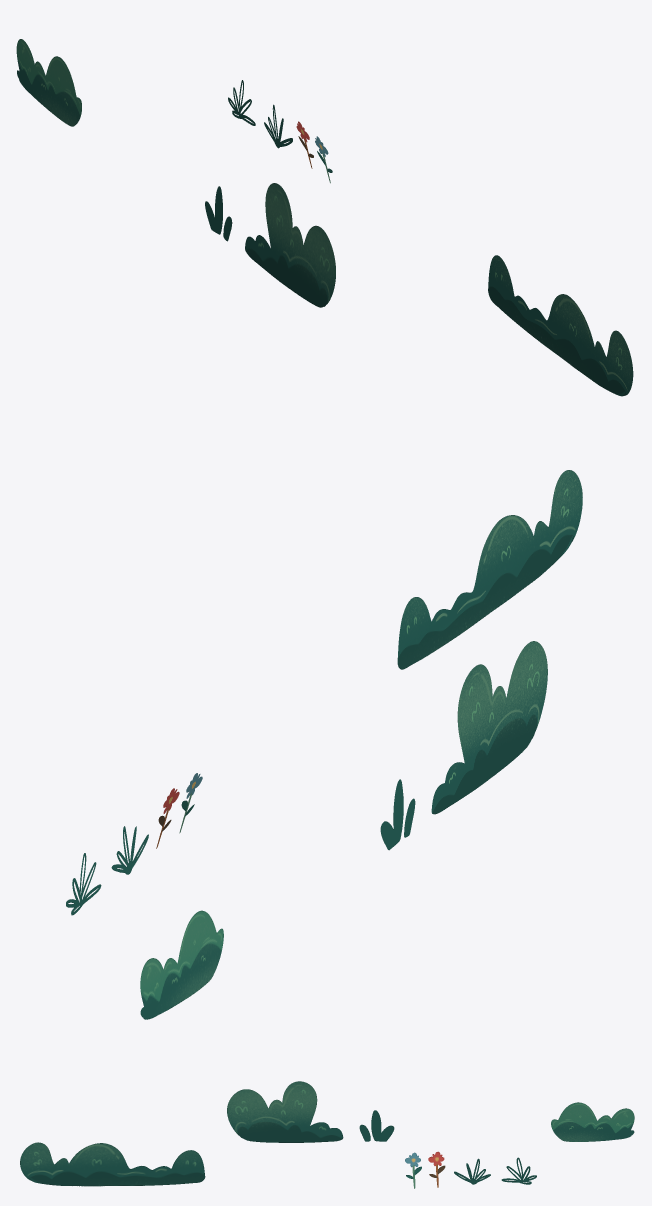
Rendered from Foliage.fbx.
3 renders of one model, top to bottom at view 1: azimuth 30°, elevation 25°; view 2: azimuth 150°, elevation 25°; view 3: azimuth 270°, elevation 25°, orthographic. The views are drawn at different scales.
Parts seen in each view (by area): view 1: BigBush, MidBush, SmallBush, plant1; view 2: BigBush, MidBush, SmallBush, plant1; view 3: BigBush, MidBush, SmallBush, plant1, plant3, plant2, blueflower, redflower.
Part boxes in pixels (x1,y1,x2,y2): BigBush: (488,255,633,396); MidBush: (245,183,335,307); SmallBush: (16,39,81,126); plant1: (205,186,232,241); BigBush: (397,470,582,669); MidBush: (431,641,547,814); SmallBush: (140,910,223,1019); plant1: (380,779,415,850); BigBush: (20,1142,205,1186); MidBush: (227,1081,343,1142); SmallBush: (551,1102,634,1141); plant1: (359,1110,394,1141); plant3: (501,1157,536,1184); plant2: (454,1158,490,1184); blueflower: (405,1152,421,1188); redflower: (428,1151,445,1187).
Bounding box in the file's own units: 210 × 182 × 1256.
1 material, 1 textured.
